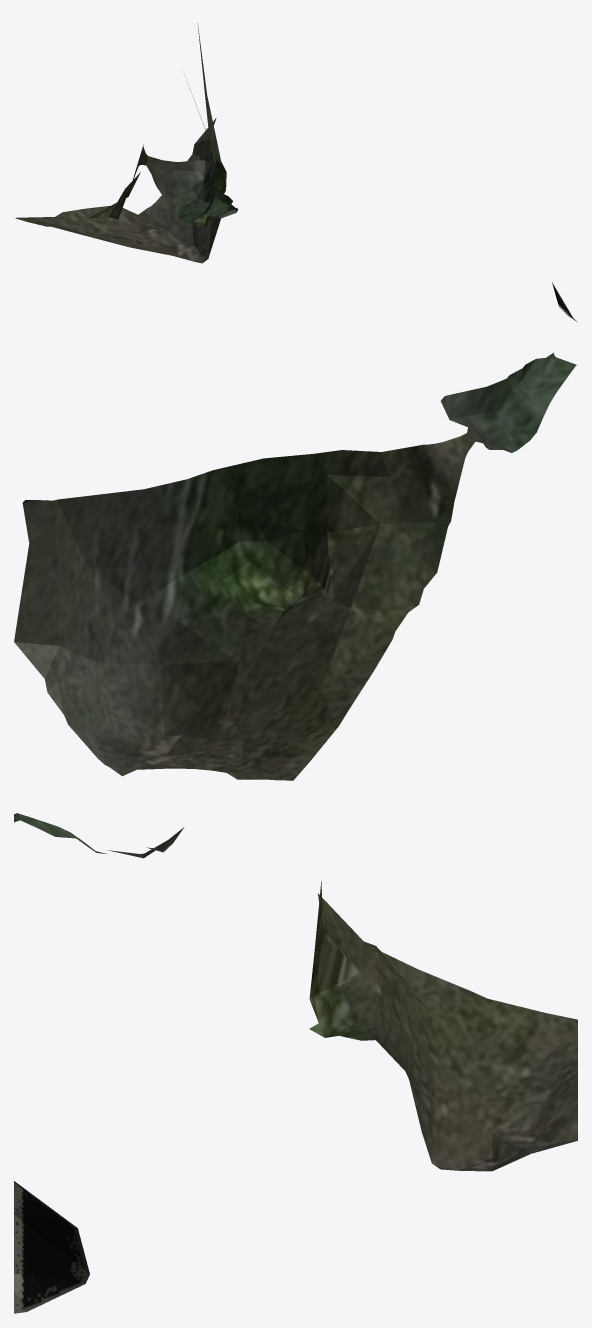
3 renders of one model, top to bottom at view 1: azimuth 30°, elevation 25°; view 2: azimuth 150°, elevation 25°; view 3: azimuth 270°, elevation 25°, orthographic. The views are drawn at different scales.
Bounding box in the file's own units: 5.9 × 3.16 × 5.9.
2 materials, 2 textured.
